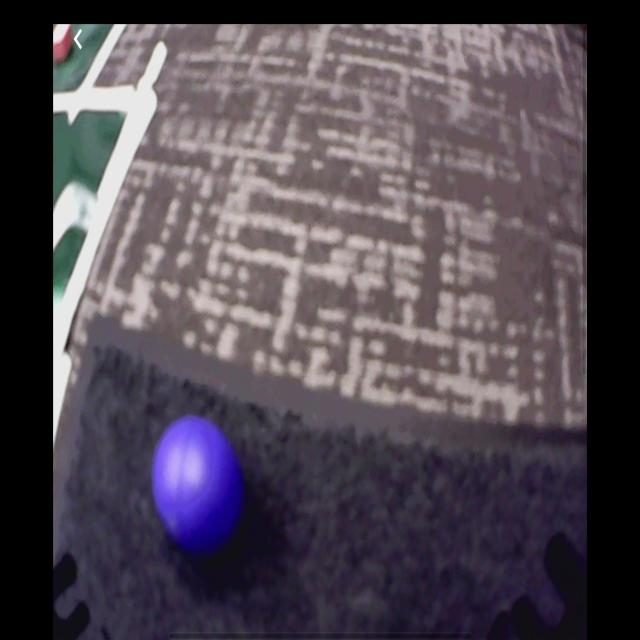ball: (152, 415, 243, 550)
